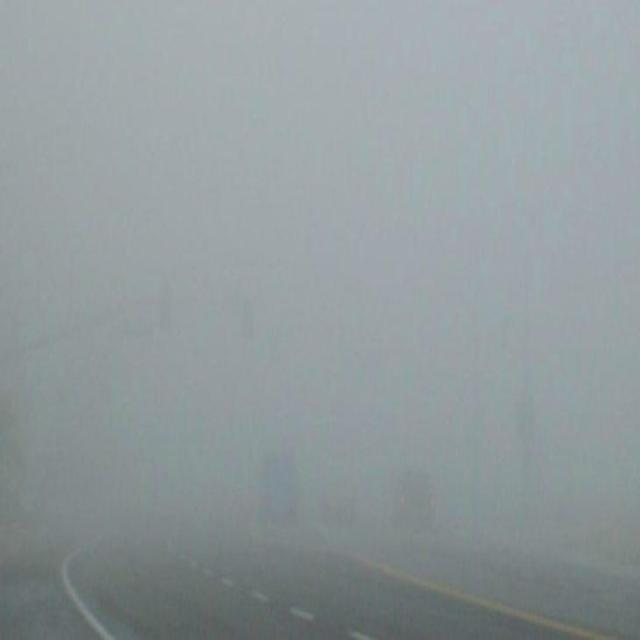Car: (391, 463, 442, 535)
Truck: (257, 435, 302, 531)
